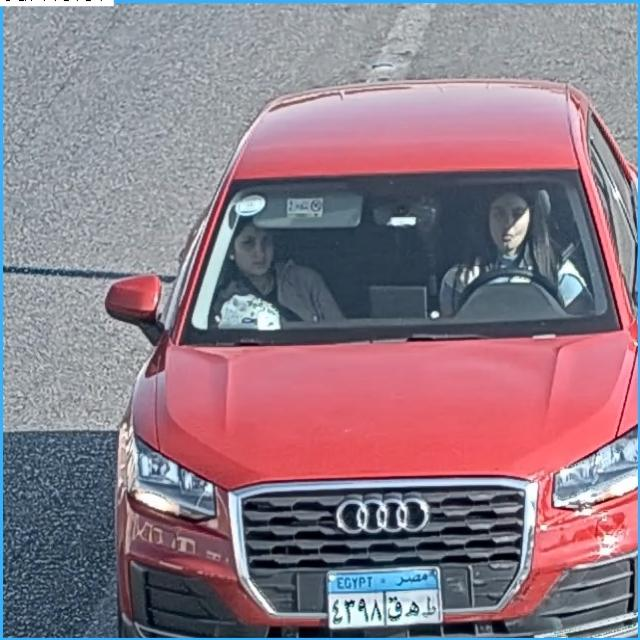windshield: (184, 177, 609, 328)
